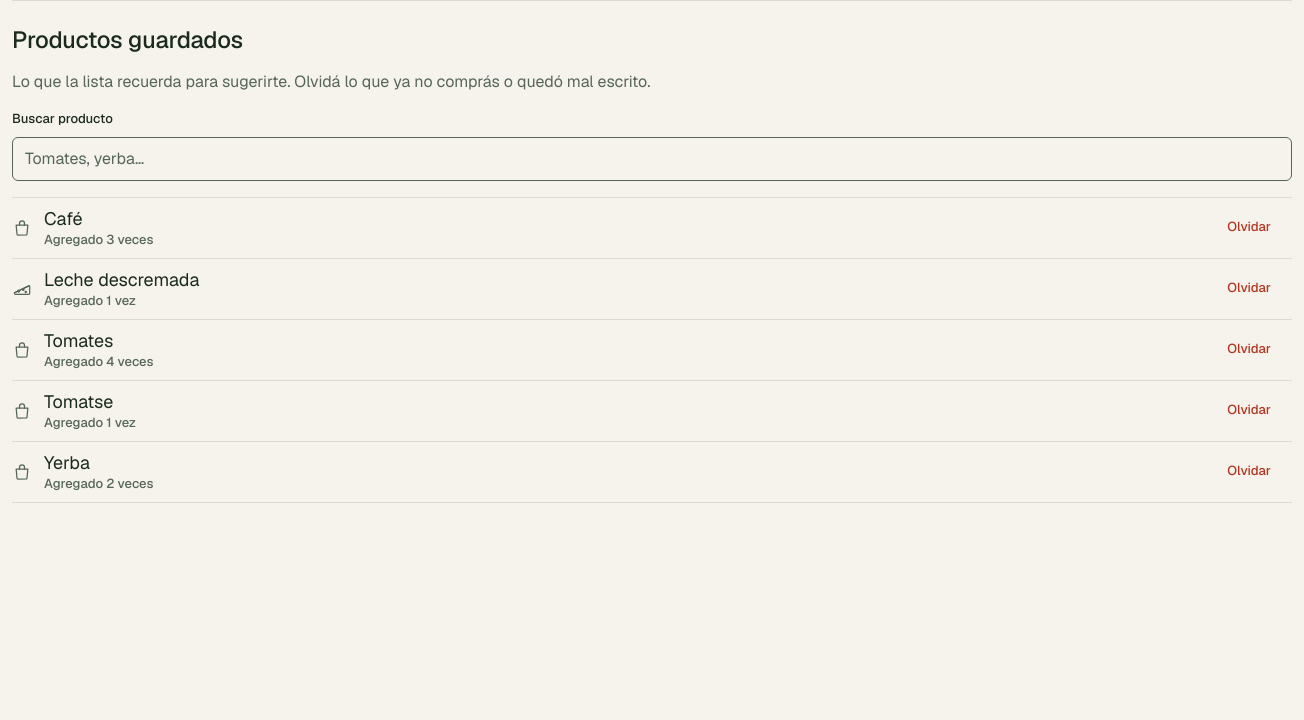
Test: Productos guardados › forgets a product with the light confirmation: one tap asks, the next does it
The width and height of the screenshot is (1304, 720).
Click the button "Olvidar" in the row of "Tomatse": click(1249, 411) [1206,389,1292,433]
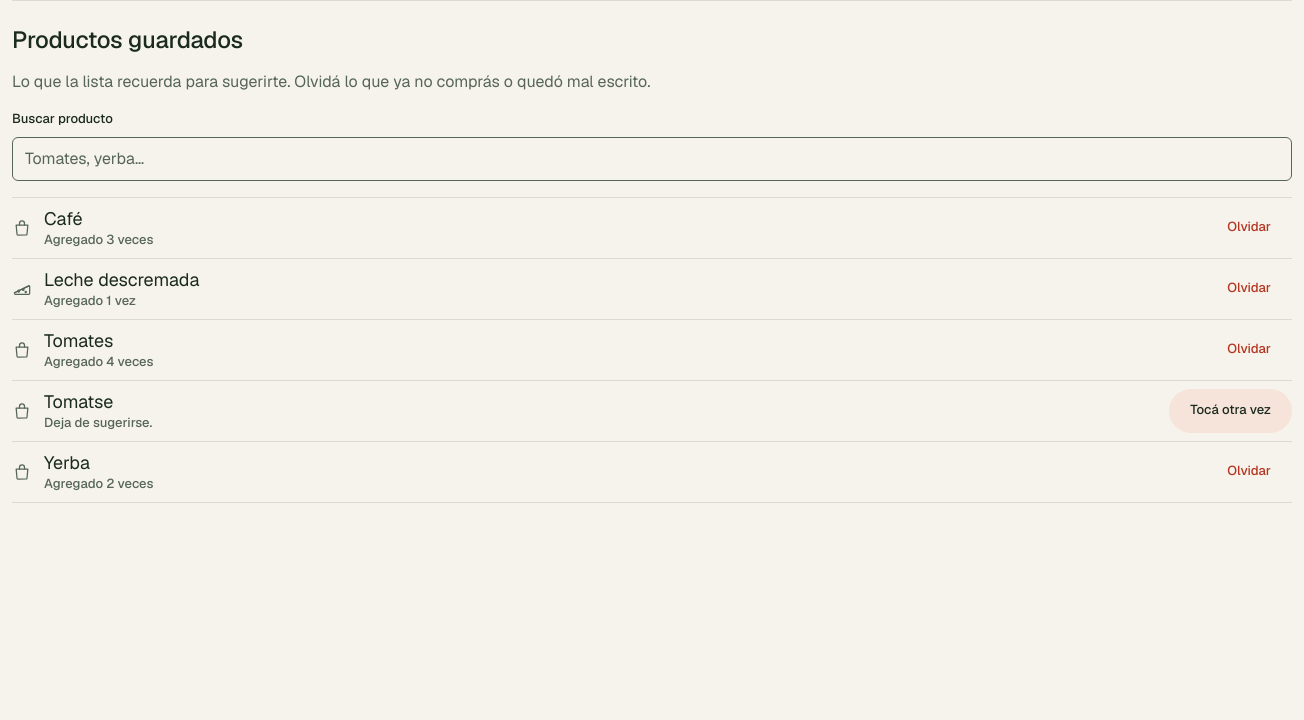
Result: the text "Deja de sugerirse." is shown at [44,414,152,431]
Click the button "Tocá otra vez": click(1231, 411) [1169,389,1292,433]
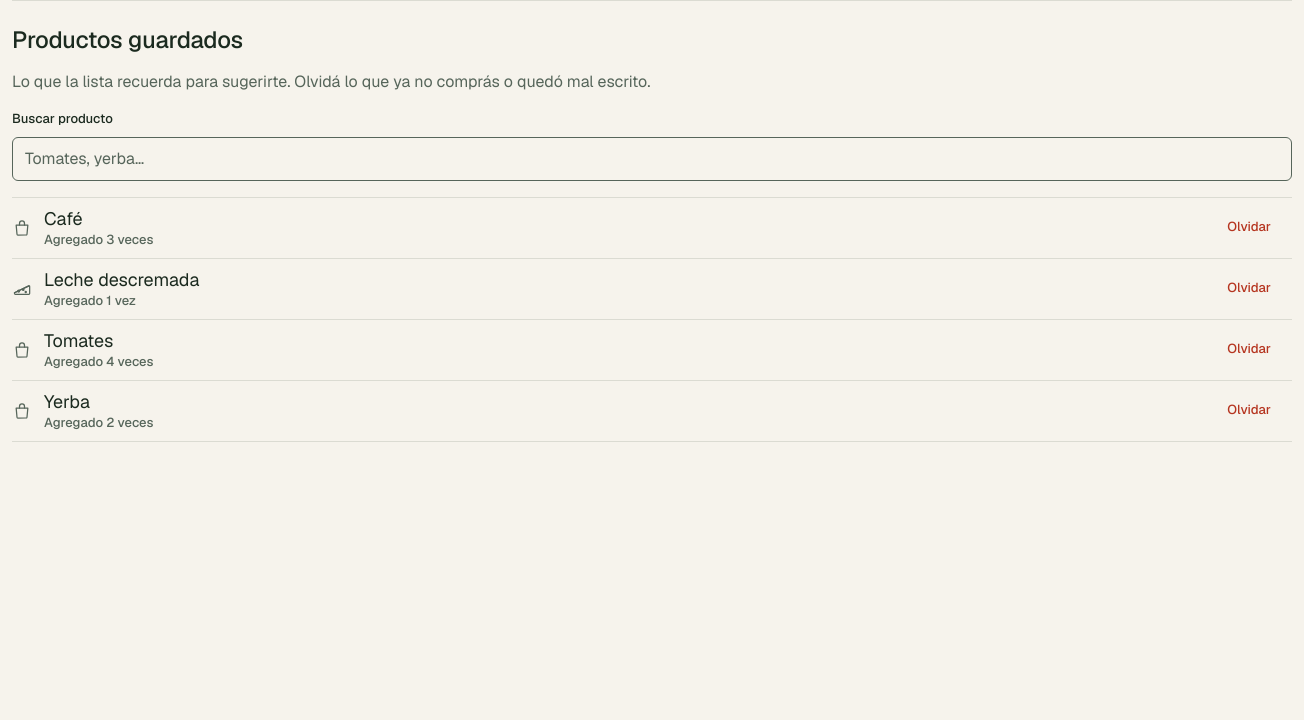
Result: the text "Tomatse" is gone
